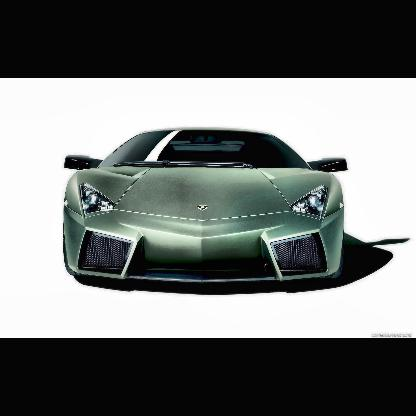Lamborghini Reventon Coupe 2008: (65, 131, 350, 293)
